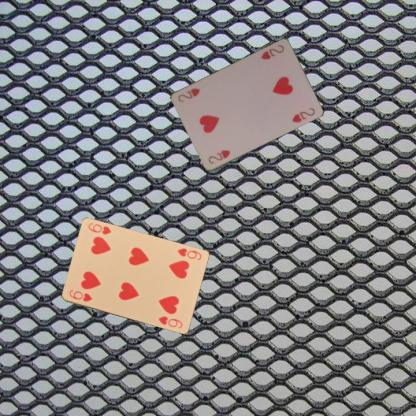2h: (258, 42, 286, 61), (206, 148, 232, 166)
6h: (174, 246, 203, 261), (66, 287, 93, 303)
